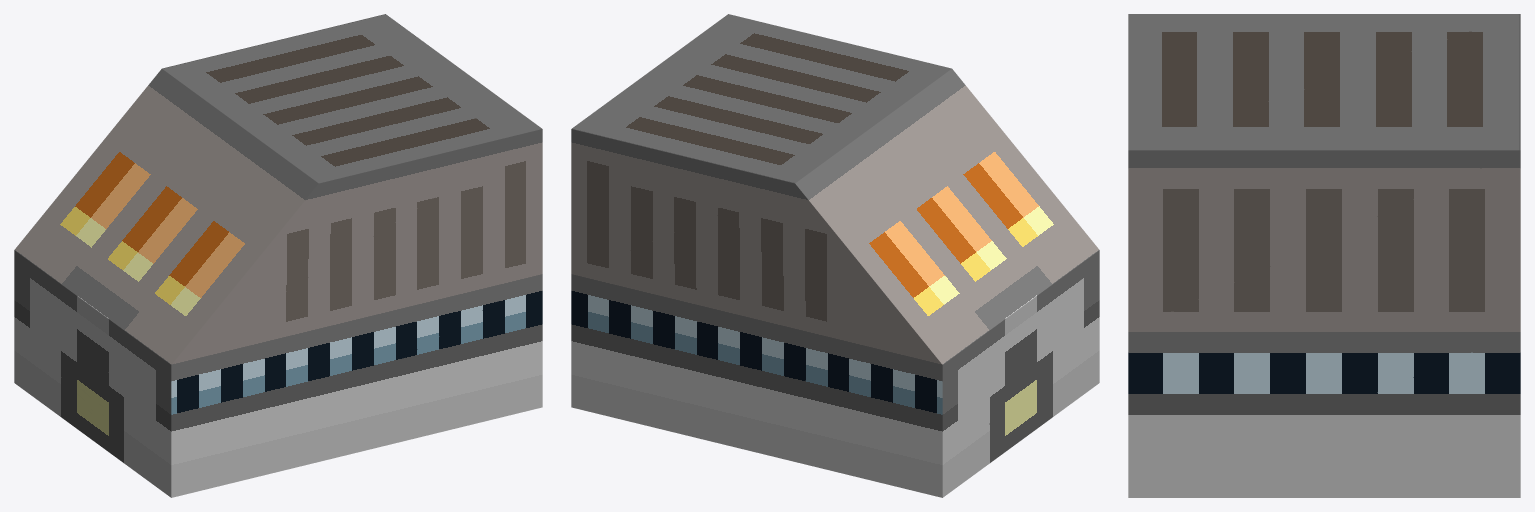
Rendered from Ammo Box.fbx.
3 views of the same model, side by side, from view 1: azimuth 30°, elevation 25°; view 2: azimuth 150°, elevation 25°; view 3: azimuth 270°, elevation 25° (orthographic). The views are drawn at different scales.
Visible parts, largest first — view 1: Ammo_box_Ingame; view 2: Ammo_box_Ingame; view 3: Ammo_box_Ingame.
Boxes of the visible parts, x1=… form: Ammo_box_Ingame: x1=14, y1=14, x2=542, y2=497; Ammo_box_Ingame: x1=571, y1=14, x2=1099, y2=497; Ammo_box_Ingame: x1=1128, y1=14, x2=1520, y2=497.
Bounding box in the file's own units: 0.9294 × 0.6661 × 0.6808.
